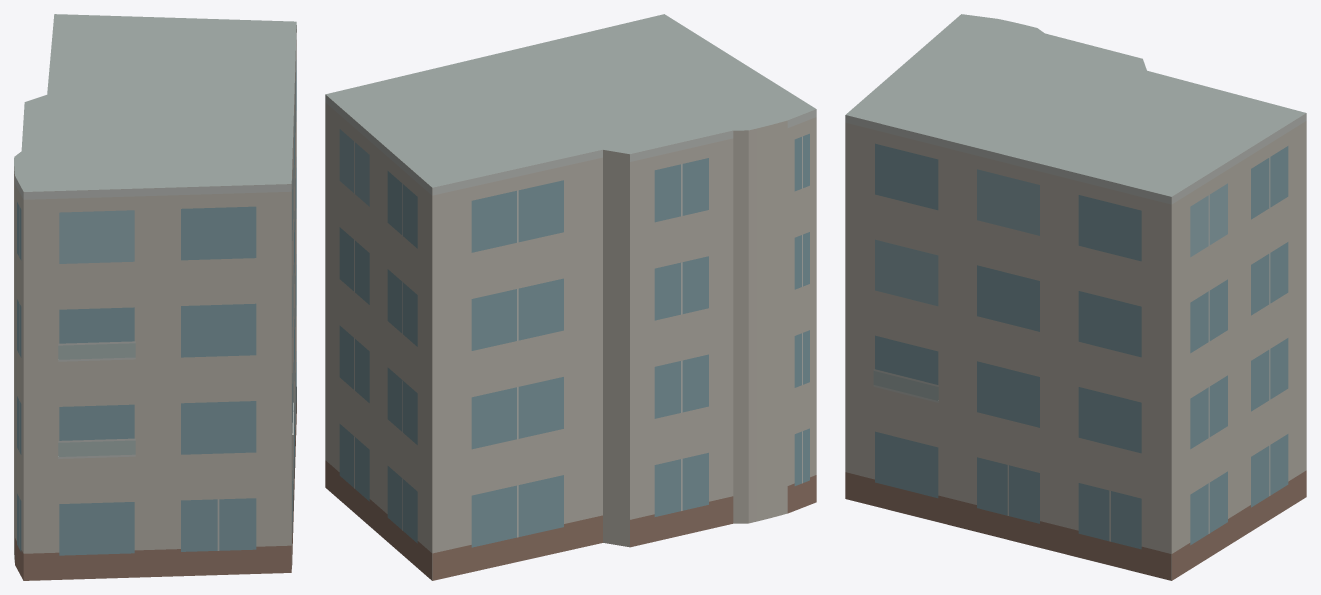
Rendered from survey-upis-32461804.glb.
3 views of the same model, side by side, from view 1: azimuth 30°, elevation 25°; view 2: azimuth 150°, elevation 25°; view 3: azimuth 270°, elevation 25° (orthographic). The views are drawn at different scales.
Parts seen in each view (by area): view 1: survey-upis-32461804.tmp; view 2: survey-upis-32461804.tmp; view 3: survey-upis-32461804.tmp.
Boxes of the visible parts, x1,y1,x2,y2 form: survey-upis-32461804.tmp: (14,14,296,580); survey-upis-32461804.tmp: (325,14,816,580); survey-upis-32461804.tmp: (845,14,1306,580).
Bounding box in the file's own units: 12.47 × 12.2 × 13.29.
